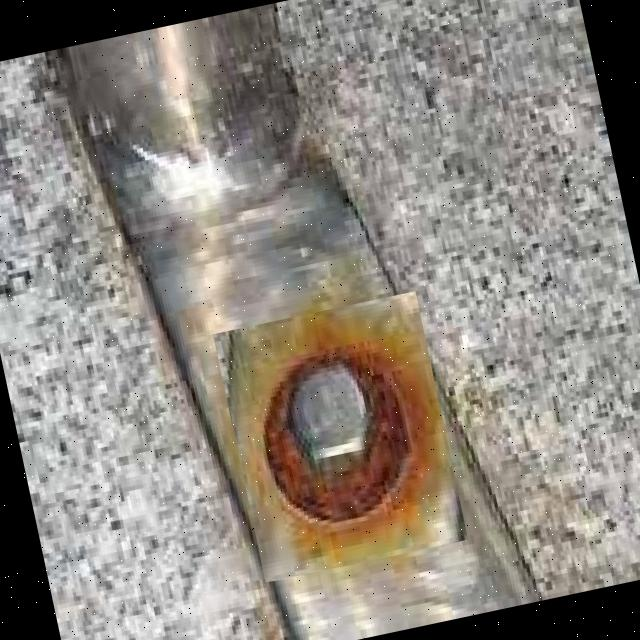Corrosion: (210, 286, 470, 584)
